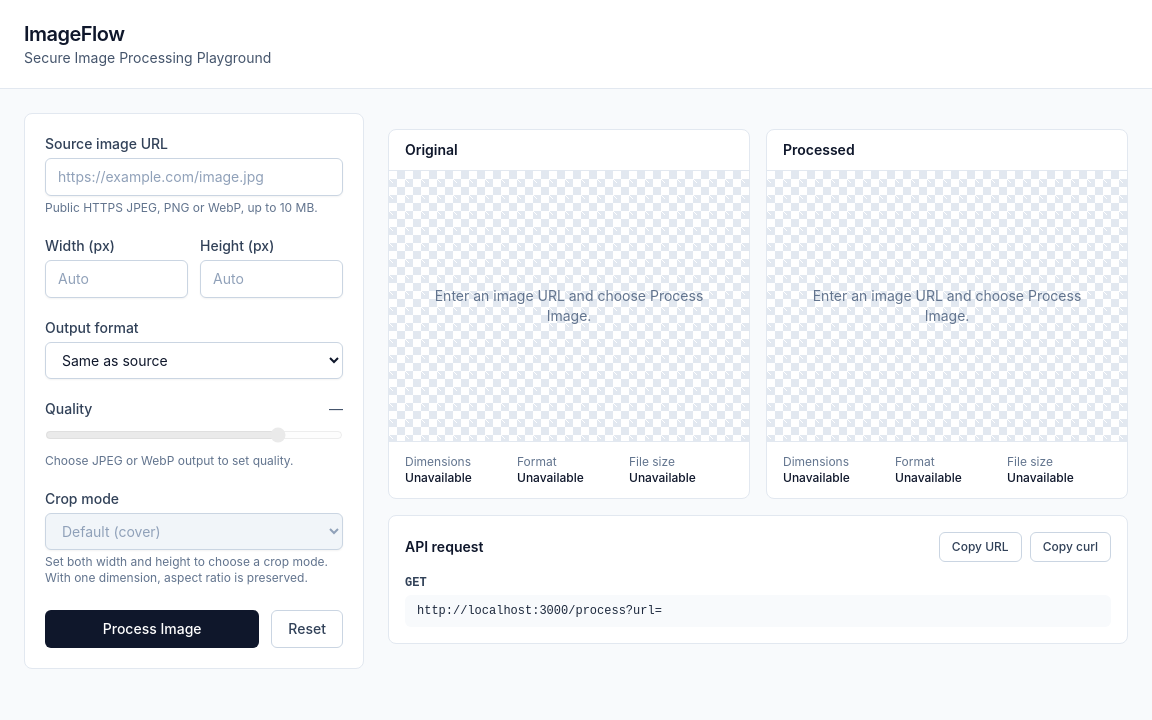
App › shows a human-readable message for unsupported images
Type "https://images.example.com/anim.gif" into the field labelled "Source image URL" at {"x": 194, "y": 177}, box x1=45 y1=158 x2=343 y2=196
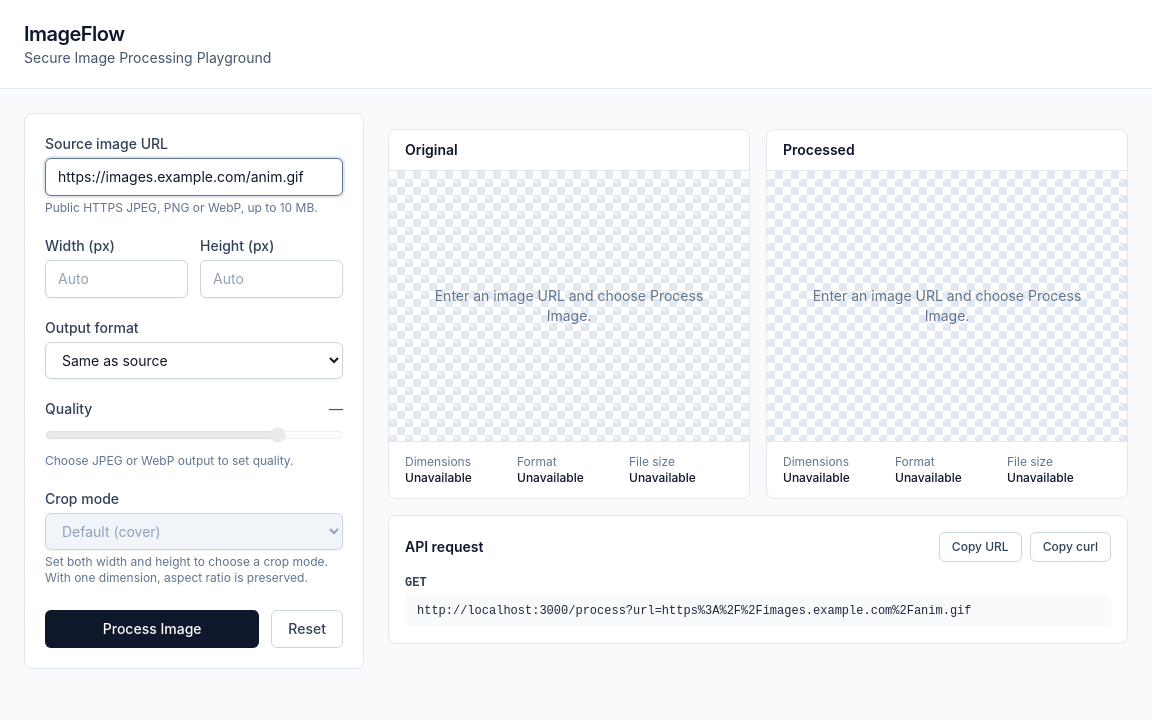
Type "800" into the number field labelled "Width (px)" at {"x": 116, "y": 279}, box x1=45 y1=260 x2=188 y2=298
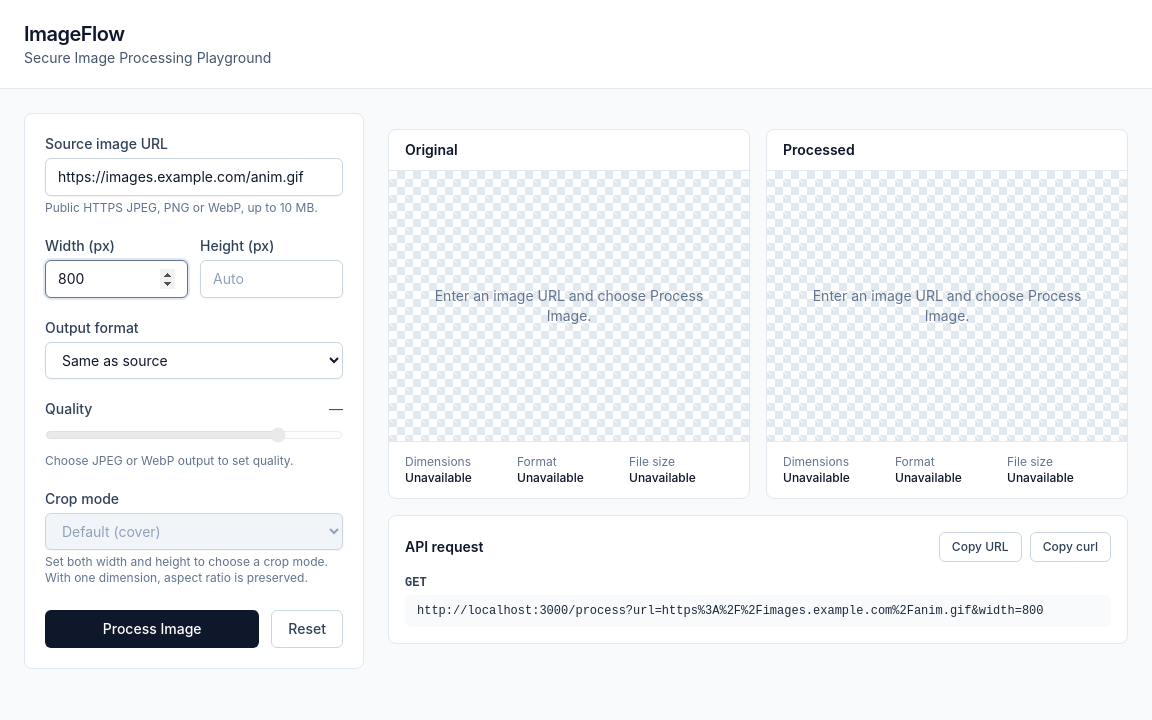
Type "600" into the number field labelled "Height (px)" at {"x": 272, "y": 279}, box x1=200 y1=260 x2=343 y2=298
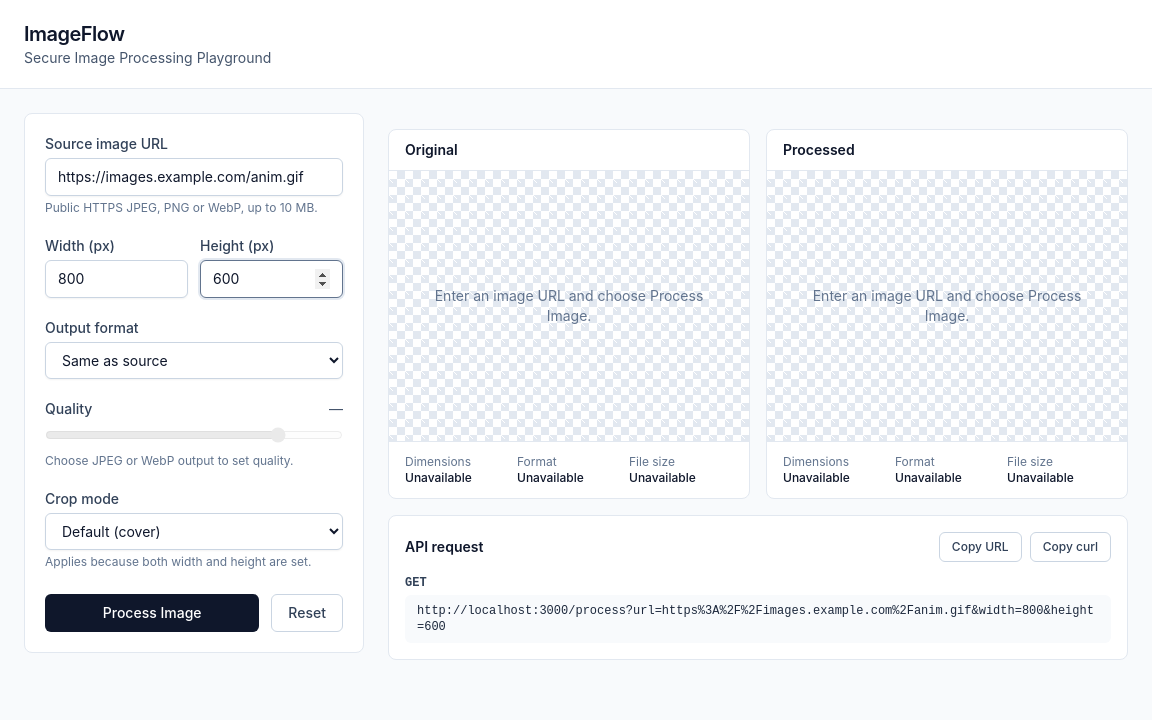
Select "WebP" in the dropdown labelled "Output format" at {"x": 194, "y": 360}, box x1=45 y1=342 x2=343 y2=379
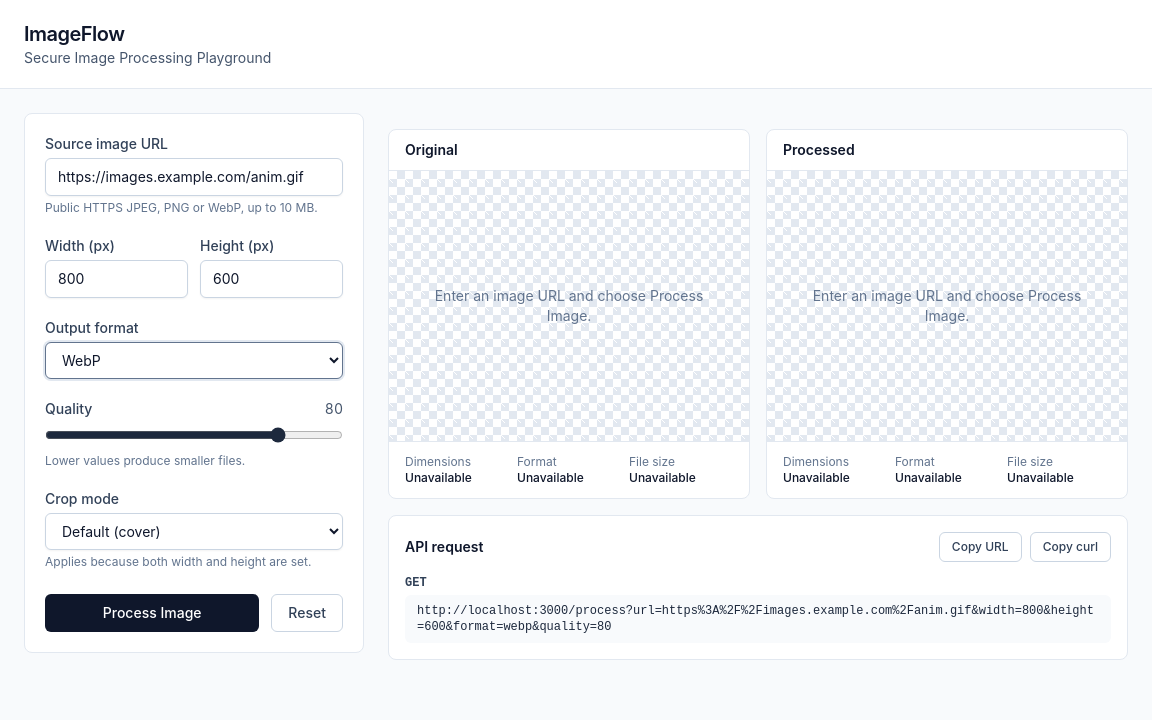
Select "Fill — stretch to box" in the dropdown labelled "Crop mode" at {"x": 194, "y": 532}, box x1=45 y1=513 x2=343 y2=550
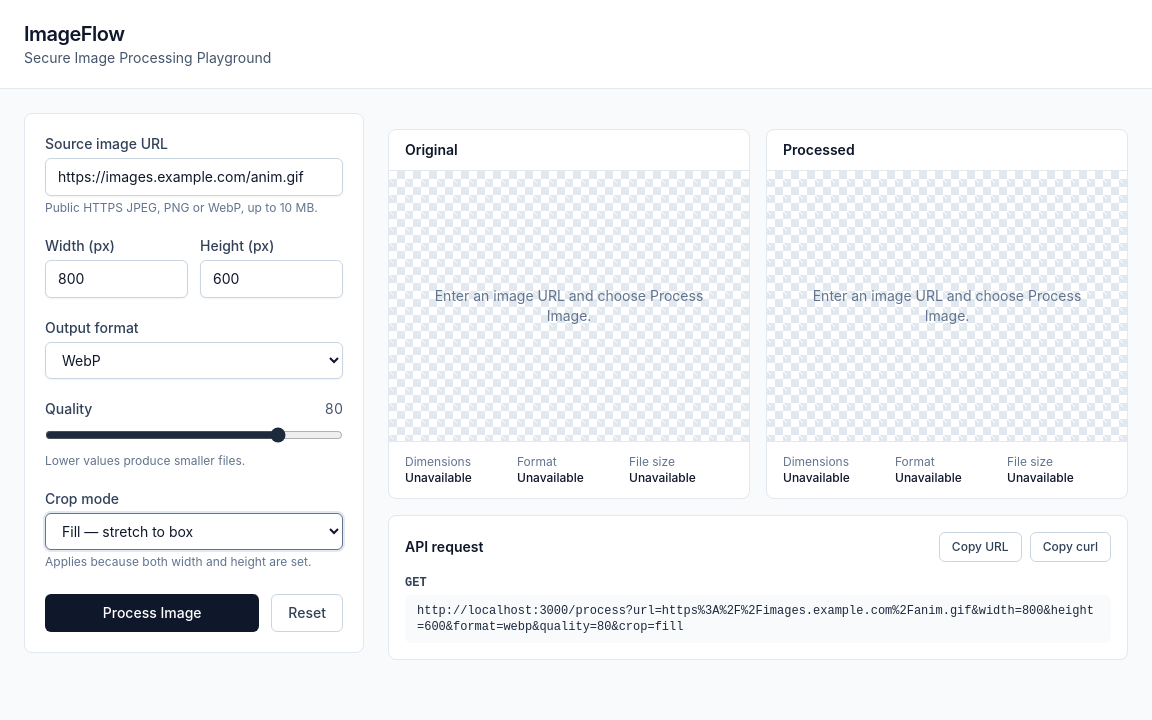
Click the button "Process Image" at {"x": 152, "y": 613}, box x1=45 y1=594 x2=259 y2=632
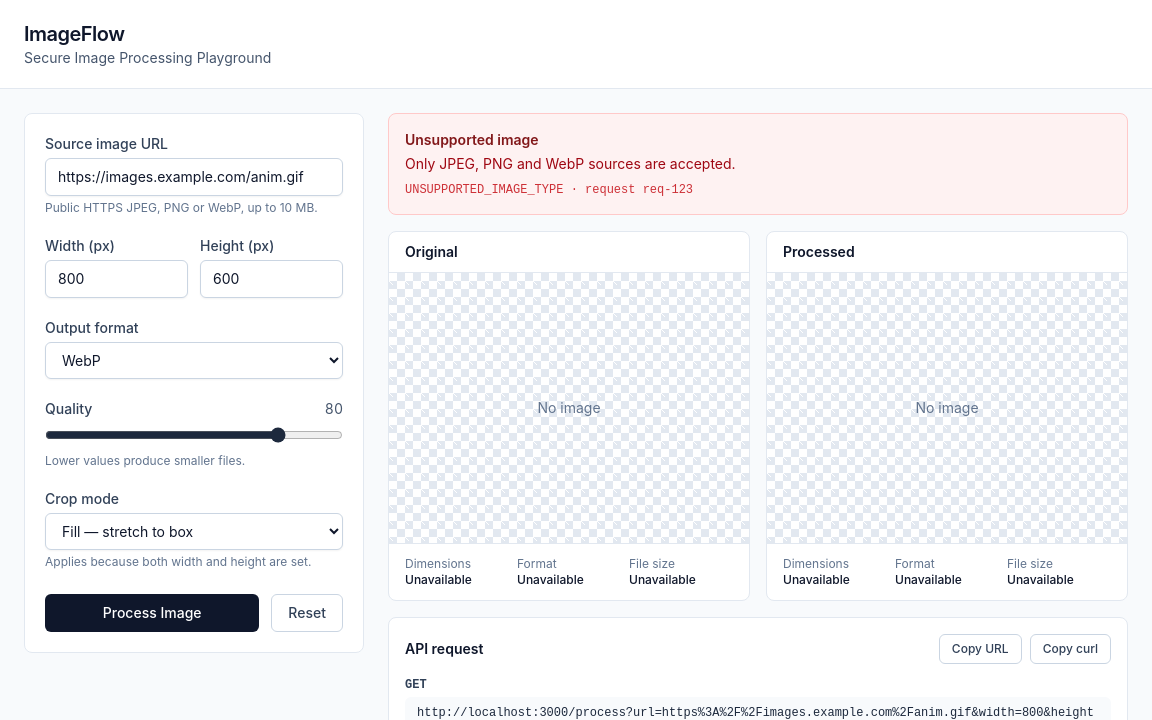
Expected: the message shows "Unsupported image", x1=405 y1=131 x2=539 y2=148
Expected: the message shows "Only JPEG, PNG and WebP sources are accepted.", x1=405 y1=155 x2=736 y2=172
Expected: the message shows "req-123", x1=563 y1=183 x2=693 y2=197
